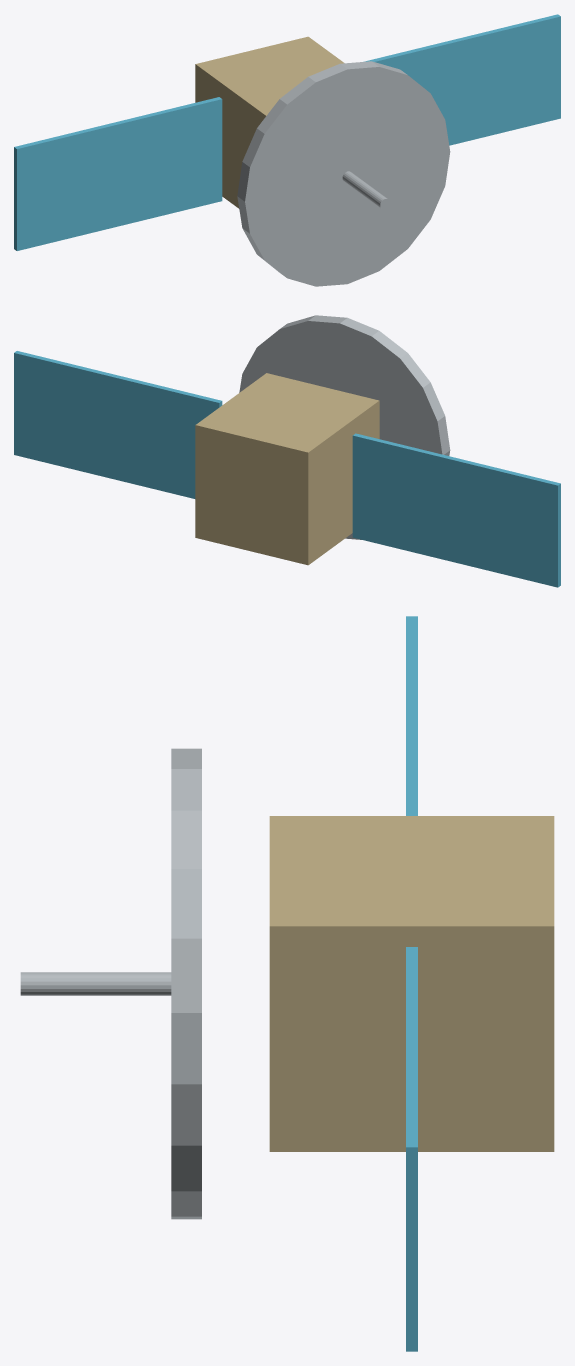
File: pioneer11.glb
3 views of the same model, one above another, from view 1: azimuth 30°, elevation 25°; view 2: azimuth 150°, elevation 25°; view 3: azimuth 270°, elevation 25° (orthographic). The views are drawn at different scales.
Parts seen in each view (by area): view 1: dish_antenna, solar_array_-1, solar_array_1, main_bus, communications_mast; view 2: main_bus, solar_array_-1, solar_array_1, dish_antenna; view 3: main_bus, dish_antenna, solar_array_1, communications_mast, solar_array_-1.
Boxes of the visible parts, left/top/right/bottom form: dish_antenna: left=237, top=61, right=450, bottom=286; solar_array_-1: left=14, top=97, right=222, bottom=250; solar_array_1: left=363, top=14, right=560, bottom=145; main_bus: left=195, top=36, right=344, bottom=208; communications_mast: left=342, top=171, right=390, bottom=209; main_bus: left=195, top=373, right=379, bottom=565; solar_array_-1: left=352, top=433, right=560, bottom=587; solar_array_1: left=14, top=351, right=222, bottom=498; dish_antenna: left=239, top=315, right=450, bottom=539; main_bus: left=269, top=816, right=554, bottom=1151; dish_antenna: left=171, top=748, right=201, bottom=1219; solar_array_1: left=406, top=947, right=417, bottom=1351; communications_mast: left=20, top=972, right=171, bottom=995; solar_array_-1: left=406, top=616, right=417, bottom=815.
Bounding box in the file's own units: 5.3 × 2 × 2.25.
